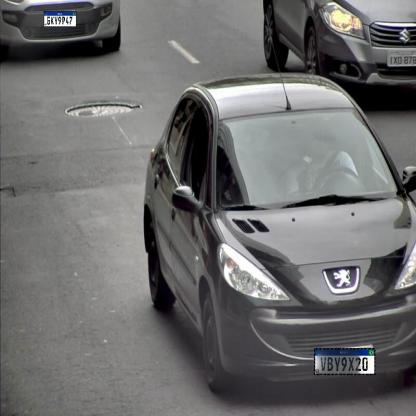PlacaM: (314, 348, 376, 375), (43, 11, 76, 27)
